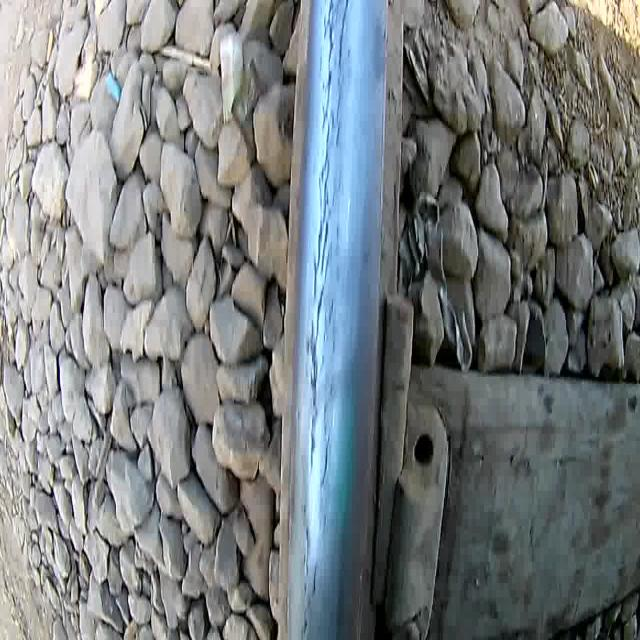Cracks: (303, 0, 357, 497), (296, 500, 319, 640)
